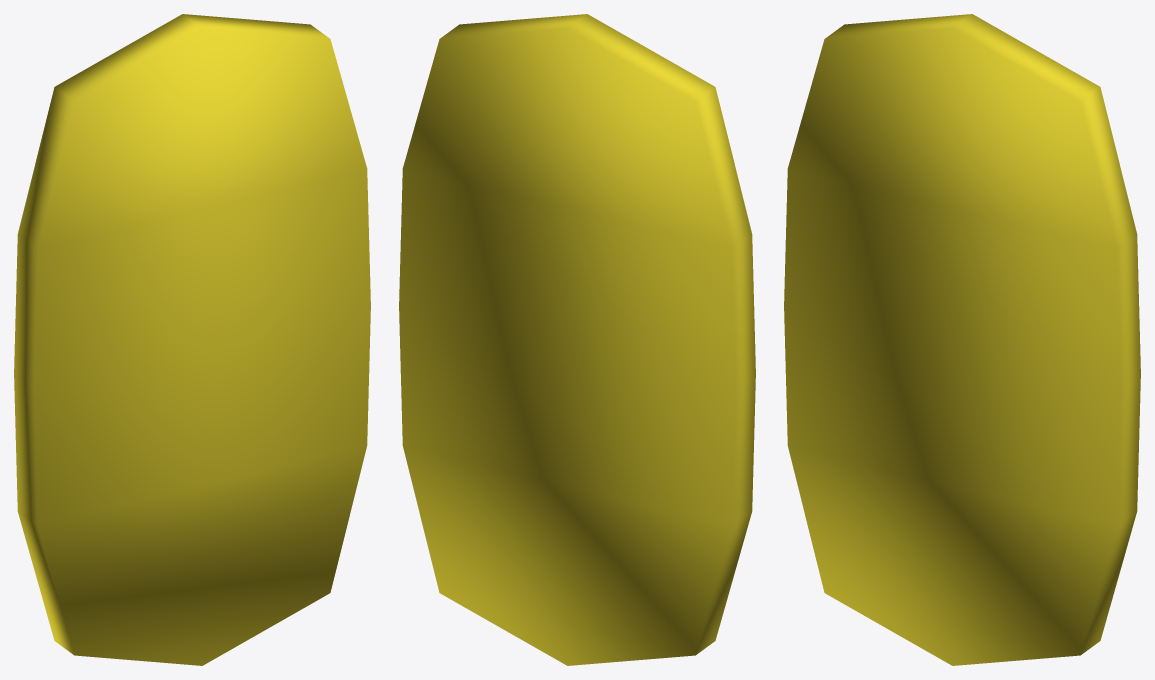
Rendered from Moedinha.fbx.
3 renders of one model, left to right at view 1: azimuth 30°, elevation 25°; view 2: azimuth 150°, elevation 25°; view 3: azimuth 330°, elevation 25°, orthographic.
Visible parts, largest first — view 1: Moedinha; view 2: Moedinha; view 3: Moedinha.
Boxes of the visible parts, x1=… form: Moedinha: x1=14, y1=14, x2=370, y2=665; Moedinha: x1=399, y1=14, x2=755, y2=665; Moedinha: x1=784, y1=14, x2=1140, y2=665.
Bounding box in the file's own units: 63.73 × 115 × 6.53.
